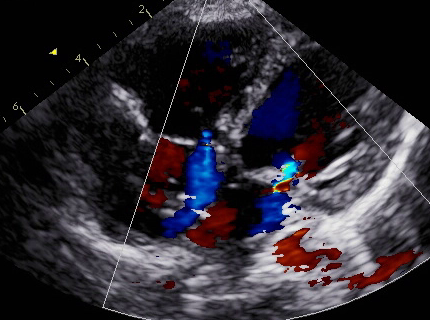MR: (243, 155, 305, 206)
